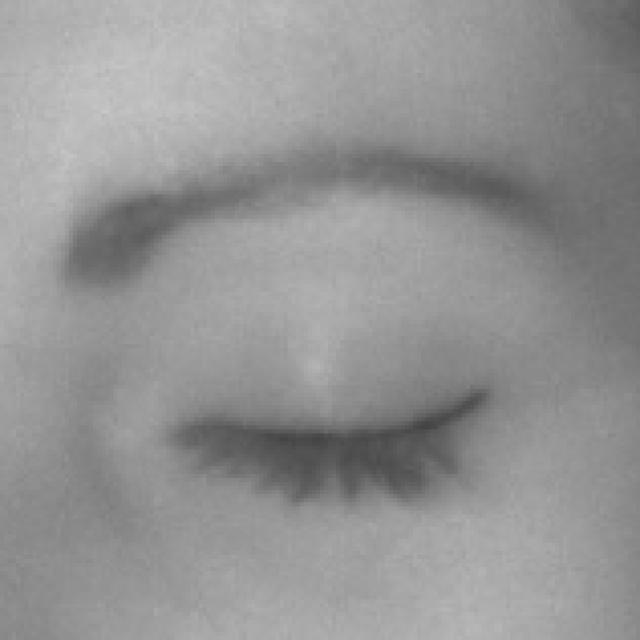close: (0, 70, 640, 575)
